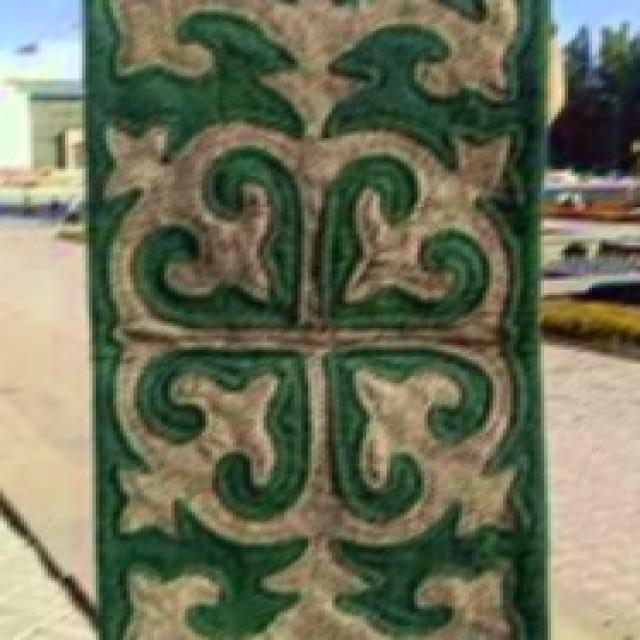Unity: (87, 122, 547, 549)
